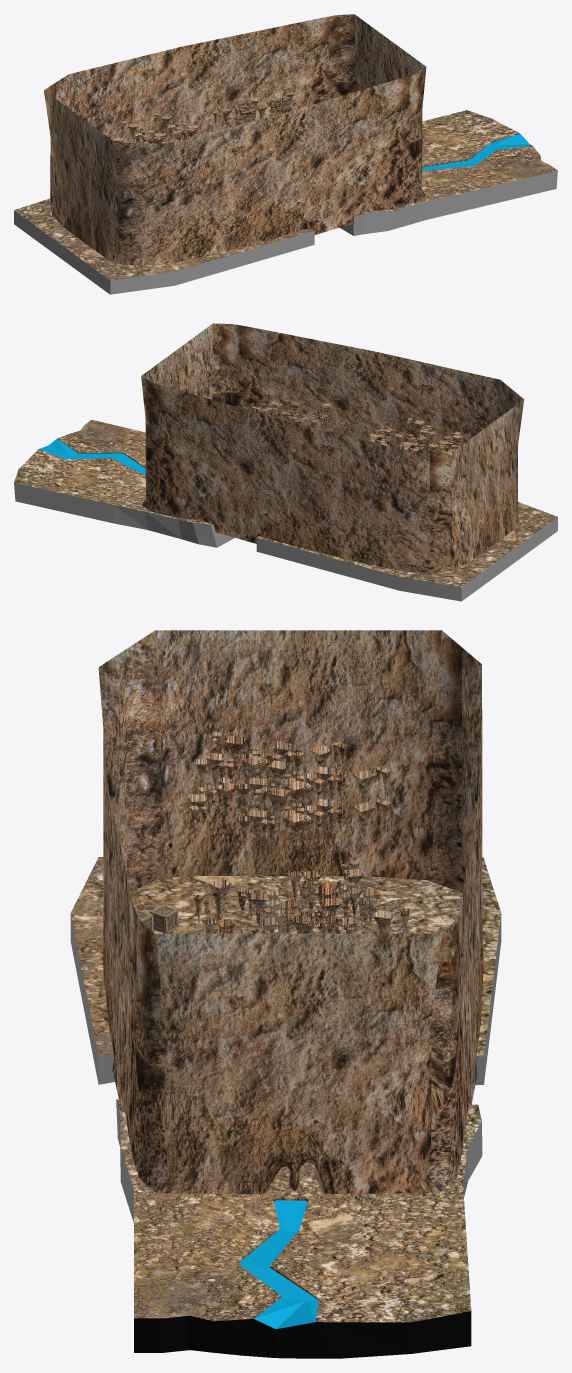
Rendered from Cave.fbx.
3 views of the same model, one above another, from view 1: azimuth 30°, elevation 25°; view 2: azimuth 150°, elevation 25°; view 3: azimuth 270°, elevation 25° (orthographic). The views are drawn at different scales.
Visible parts, largest first — view 1: pCube37, pCube28, pCube36, polySurface426, polySurface425; view 2: pCube37, pCube28, pCube36, polySurface425, polySurface426; view 3: pCube37, pCube28, pCube36, polySurface425, polySurface426.
Part boxes in pixels (bbox=[...]): pCube37: bbox=[44, 14, 426, 265]; pCube28: bbox=[340, 110, 557, 235]; pCube36: bbox=[14, 198, 314, 294]; polySurface426: bbox=[213, 86, 328, 125]; polySurface425: bbox=[107, 113, 206, 143]; pCube37: bbox=[141, 323, 524, 574]; pCube28: bbox=[14, 420, 234, 547]; pCube36: bbox=[256, 502, 557, 601]; polySurface425: bbox=[370, 418, 463, 451]; polySurface426: bbox=[240, 400, 331, 432]; pCube37: bbox=[98, 630, 483, 1193]; pCube28: bbox=[116, 1099, 482, 1358]; pCube36: bbox=[70, 857, 501, 1085]; polySurface425: bbox=[189, 732, 391, 848]; polySurface426: bbox=[193, 860, 409, 933].
Bounding box in the file's own units: 2673 × 818 × 1073.
